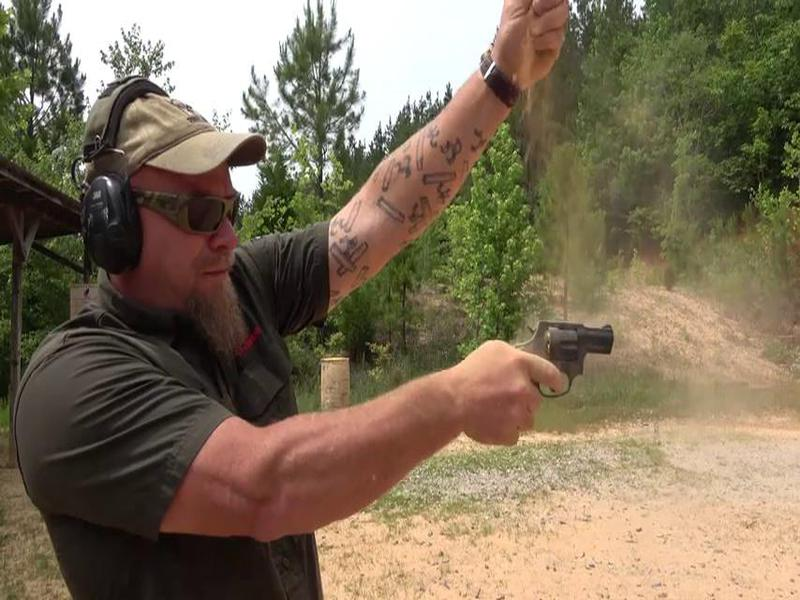Revolver: (471, 285, 609, 440)
